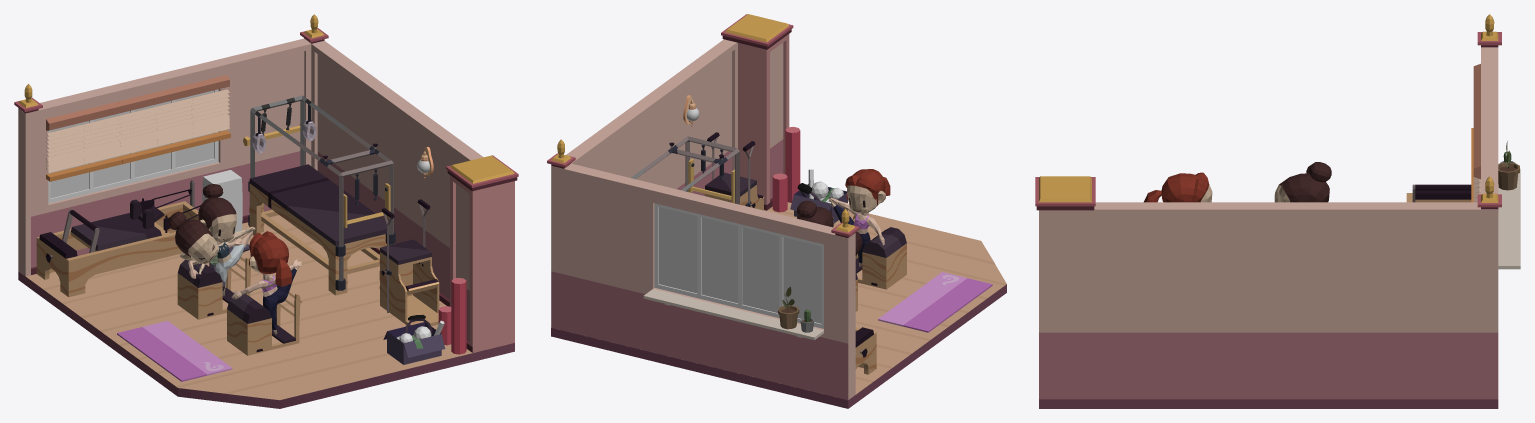
The model's file is 0077_pilates.fbx.
The picture shows the model from 3 angles, left to right: view 1: azimuth 30°, elevation 25°; view 2: azimuth 150°, elevation 25°; view 3: azimuth 270°, elevation 25°; orthographic projection. The views are drawn at different scales.
Visible parts, largest first — view 1: Plate, WallB, WallA01, Blind (×5), EquipmentB01, EquipmentA01, EquipmentD (×2), EquipmentC01, YogaMat, Glass, EquipmentB03, WomanA01 (+12 smaller); view 2: WallA01, WallB, Plate, Glass, YogaMat, Window, EquipmentD, EquipmentB03, WomanB_Head, FoamRoller, EquipmentC01, EquipmentA01 (+5 smaller); view 3: WallB, Plate, WallA01, WomanA02_Head, WomanB_Head, WallA02 (×2), EquipmentA01, Plant01, EquipmentA03.
Boxes of the visible parts, x1=… form: Plate: x1=18, y1=215, x2=514, y2=408; WallB: x1=311, y1=40, x2=518, y2=352; WallA01: x1=18, y1=38, x2=311, y2=276; Blind (×5): x1=46, y1=75, x2=230, y2=181; EquipmentB01: x1=248, y1=164, x2=395, y2=295; EquipmentA01: x1=36, y1=199, x2=209, y2=297; EquipmentD (×2): x1=177, y1=246, x2=302, y2=355; EquipmentC01: x1=379, y1=239, x2=439, y2=326; YogaMat: x1=117, y1=320, x2=232, y2=381; Glass: x1=50, y1=90, x2=214, y2=198; EquipmentB03: x1=295, y1=128, x2=393, y2=280; WomanA01: x1=167, y1=211, x2=218, y2=263; WallA01: x1=551, y1=163, x2=855, y2=399; WallB: x1=551, y1=14, x2=793, y2=327; Plate: x1=551, y1=202, x2=1006, y2=408; Glass: x1=659, y1=207, x2=821, y2=323; YogaMat: x1=878, y1=272, x2=992, y2=332; Window: x1=654, y1=203, x2=823, y2=328; EquipmentD: x1=853, y1=215, x2=906, y2=289; EquipmentB03: x1=643, y1=136, x2=739, y2=204; WomanB_Head: x1=845, y1=169, x2=890, y2=213; FoamRoller: x1=785, y1=126, x2=800, y2=202; EquipmentC01: x1=705, y1=172, x2=764, y2=210; EquipmentA01: x1=855, y1=327, x2=876, y2=374; WallB: x1=1035, y1=176, x2=1498, y2=399; Plate: x1=1039, y1=399, x2=1498, y2=408; WallA01: x1=1481, y1=47, x2=1520, y2=269; WomanA02_Head: x1=1279, y1=162, x2=1331, y2=202; WomanB_Head: x1=1144, y1=172, x2=1212, y2=202; WallA02 (×2): x1=1477, y1=14, x2=1501, y2=209; EquipmentA01: x1=1406, y1=190, x2=1471, y2=202; Plant01: x1=1498, y1=141, x2=1519, y2=190; EquipmentA03: x1=1412, y1=184, x2=1471, y2=202.
Size of the model in its own units: 9.41 by 5.83 by 11.19.
